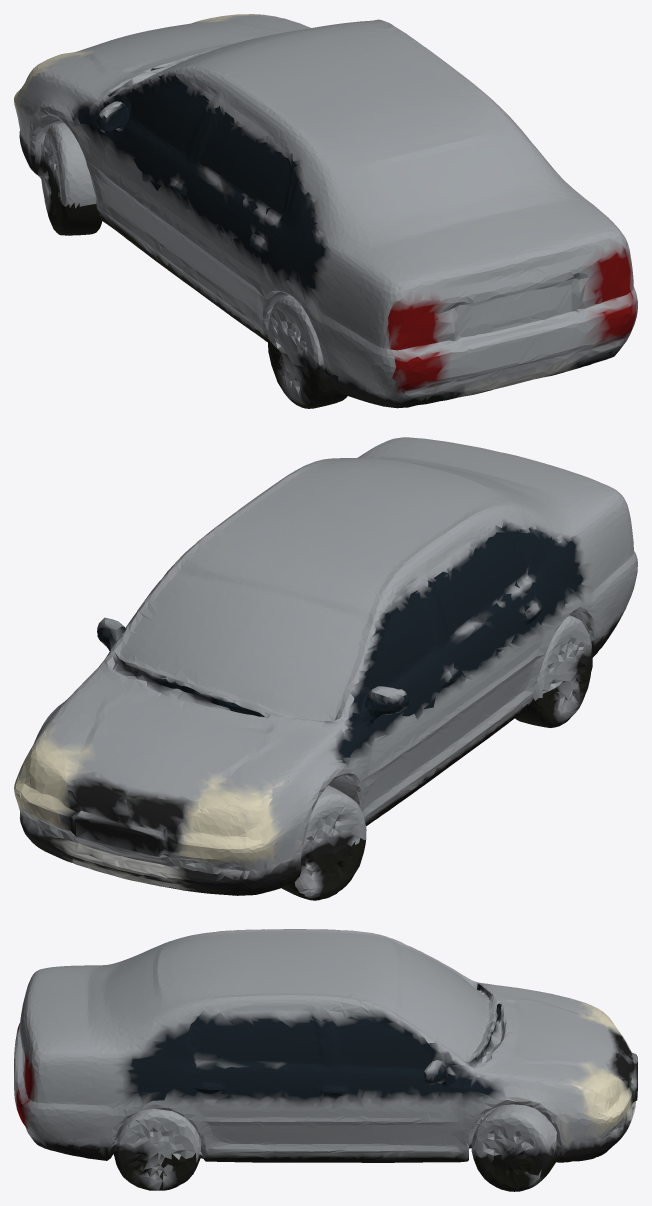
Rendered from samand.glb.
3 views of the same model, one above another, from view 1: azimuth 30°, elevation 25°; view 2: azimuth 150°, elevation 25°; view 3: azimuth 270°, elevation 25° (orthographic). The views are drawn at different scales.
Parts seen in each view (by area): view 1: body, wheel_1, wheel_0; view 2: body, wheel_0, wheel_1; view 3: body, wheel_3, wheel_2.
Part boxes in pixels (box(x1,y1,x2,y2)): body: box(14, 14, 637, 408); wheel_1: box(268, 339, 347, 408); wheel_0: box(36, 165, 102, 235); body: box(14, 437, 637, 893); wheel_0: box(203, 838, 365, 900); wheel_1: box(515, 659, 592, 727); body: box(14, 929, 637, 1190); wheel_3: box(113, 1153, 200, 1190); wheel_2: box(473, 1139, 620, 1191).
Bounding box in the file's own units: 91.25 × 67.21 × 208.
